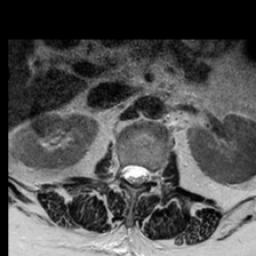CCS_normal: (131, 153, 139, 196)
LFS_normal: (148, 159, 156, 191)
LLS_normal: (139, 158, 148, 191)
RFS_normal: (115, 152, 123, 184)
RLS_normal: (122, 156, 131, 190)
